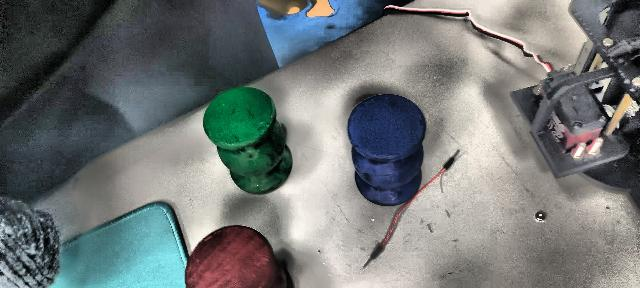blue: (346, 94, 426, 207)
green: (203, 86, 293, 194)
red: (172, 224, 304, 288)
